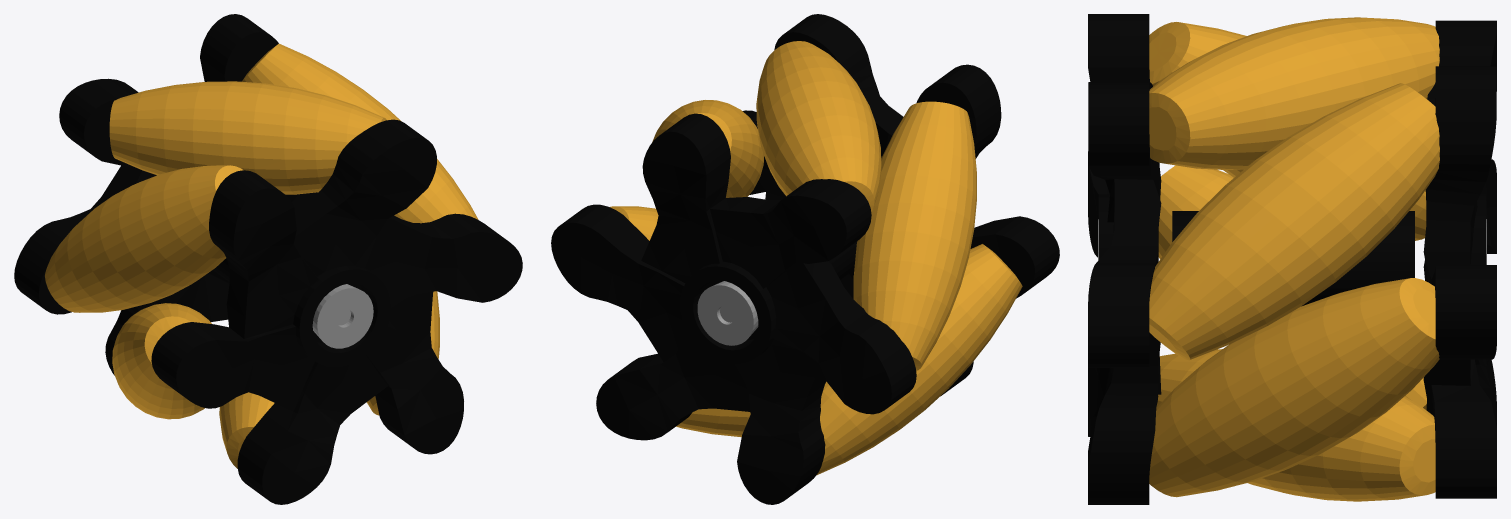
File: wheel2.dae
3 renders of one model, left to right at view 1: azimuth 30°, elevation 25°; view 2: azimuth 150°, elevation 25°; view 3: azimuth 270°, elevation 25°, orthographic. The views are drawn at different scales.
Parts seen in each view (by area): view 1: back-left_wheel; view 2: back-left_wheel; view 3: back-left_wheel.
Boxes of the visible parts, x1=… form: back-left_wheel: x1=14, y1=14, x2=522, y2=504; back-left_wheel: x1=551, y1=14, x2=1059, y2=504; back-left_wheel: x1=1088, y1=14, x2=1496, y2=504.
Size of the model in its own units: 0.1024 by 0.0844 by 0.0997.
